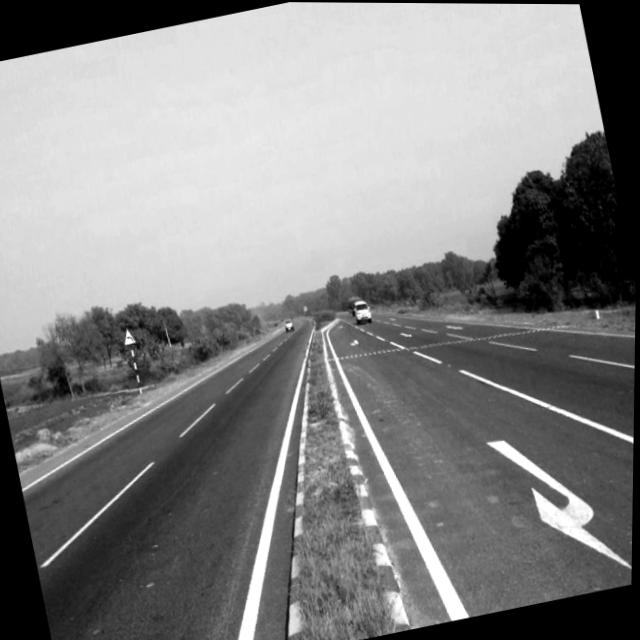cleat: (19, 146, 637, 640)
